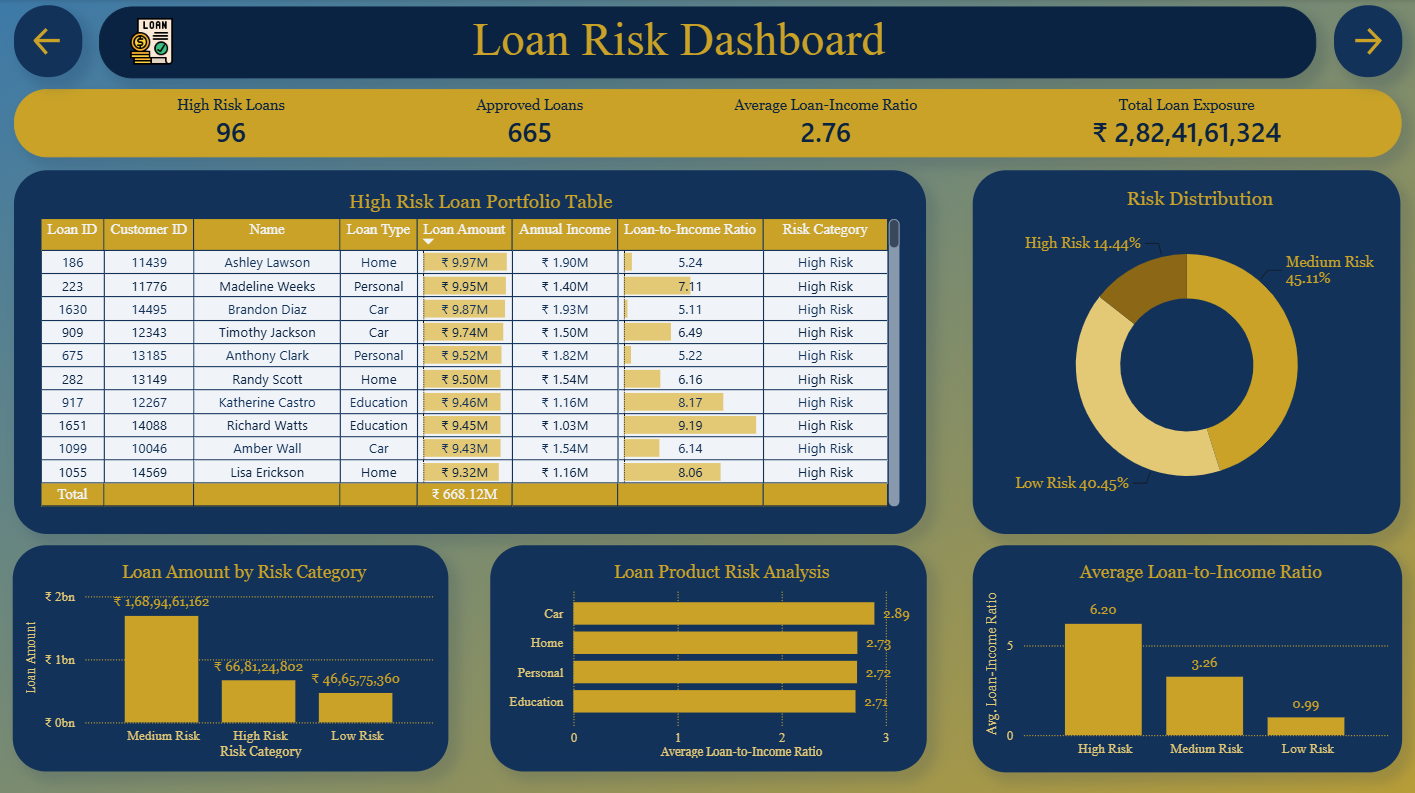

This screenshot's page, from the dashboard's own definition file:
{"tool":"powerbi","page":{"name":"Loan Risk Dashboard","canvas":[1280,720],"ordinal":2},"visuals":[{"type":"shape","box":[90,6.2,1097.5,65],"z":0},{"type":"shape","box":[13.8,81.2,1251.2,61.2],"z":1000},{"type":"cardVisual","fields":{"Data":["Sum(vw_approved_loan_portfolio.Loan_Amount)"]},"box":[965,85,212.5,55],"z":2000},{"type":"cardVisual","fields":{"Data":["CountNonNull(vw_approved_loan_portfolio.Customer_ID)"]},"box":[405,85,148.8,55],"z":3000},{"type":"cardVisual","fields":{"Data":["vw_loan_risk_analysis.High Risk Loans"]},"box":[138.8,85,141.2,55],"z":4000},{"type":"cardVisual","fields":{"Data":["vw_loan_risk_analysis.Average Loan To Income Ratio"]},"box":[642.5,85,206.2,55],"z":5000},{"type":"donutChart","title":"Risk Distribution","fields":{"Category":["vw_loan_risk_analysis.Loan_Risk_Category"],"Y":["CountNonNull(vw_loan_risk_analysis.Customer_ID)"]},"box":[878.4,154.6,385.9,327.8],"z":6000},{"type":"clusteredColumnChart","title":"Loan Amount by Risk Category","fields":{"Category":["vw_loan_risk_analysis.Loan_Risk_Category"],"Y":["Sum(vw_loan_risk_analysis.Loan_Amount)"]},"box":[12.4,492.3,393,204.1],"z":7000},{"type":"clusteredColumnChart","title":"Average Loan-to-Income Ratio","fields":{"Category":["vw_credit_risk_summary.Loan_Risk_Category"],"Y":["Avg(vw_credit_risk_summary.Average_Loan_to_Income_Ratio)"]},"box":[877.5,492.5,387.5,205],"z":8000},{"type":"clusteredBarChart","title":"Loan Product Risk Analysis","fields":{"Category":["vw_loan_product_risk_analysis.Loan_Type"],"Y":["Avg(vw_loan_product_risk_analysis.Average_Loan_to_Income_Ratio)"]},"box":[442.8,492.3,393.4,204.1],"z":9000},{"type":"tableEx","title":"High Risk Loan Portfolio Table","fields":{"Values":["vw_loan_risk_analysis.Loan_ID","vw_loan_risk_analysis.Customer_ID","vw_loan_risk_analysis.Name","vw_loan_risk_analysis.Loan_Type","Sum(vw_loan_risk_analysis.Loan_Amount)","vw_loan_risk_analysis.Annual_Income","vw_loan_risk_analysis.Loan_to_Income_Ratio","vw_loan_risk_analysis.Loan_Risk_Category"]},"box":[13.8,154.6,822.6,327.8],"z":10000},{"type":"textbox","box":[357.5,6.2,511.2,65],"z":11000},{"type":"actionButton","box":[1203.8,6,61.2,65],"z":12000},{"type":"actionButton","box":[13.8,6,61.2,65],"z":13000},{"type":"image","box":[110,16.2,57.5,45],"z":14000}]}

Visuals, with their boxes in screenshot pixels (x1, y1, x2, y2), scaled from the page's 1280x720 canvas onto the 1415x793 screenshot:
shape: x1=99, y1=7, x2=1313, y2=78
shape: x1=15, y1=89, x2=1398, y2=157
cardVisual - Sum(vw_approved_loan_portfolio.Loan_Amount): x1=1067, y1=94, x2=1302, y2=154
cardVisual - CountNonNull(vw_approved_loan_portfolio.Customer_ID): x1=448, y1=94, x2=612, y2=154
cardVisual - vw_loan_risk_analysis.High Risk Loans: x1=153, y1=94, x2=310, y2=154
cardVisual - vw_loan_risk_analysis.Average Loan To Income Ratio: x1=710, y1=94, x2=938, y2=154
"Risk Distribution" donutChart: x1=971, y1=170, x2=1398, y2=531
"Loan Amount by Risk Category" clusteredColumnChart: x1=14, y1=542, x2=448, y2=767
"Average Loan-to-Income Ratio" clusteredColumnChart: x1=970, y1=542, x2=1398, y2=768
"Loan Product Risk Analysis" clusteredBarChart: x1=490, y1=542, x2=924, y2=767
"High Risk Loan Portfolio Table" tableEx: x1=15, y1=170, x2=925, y2=531
textbox: x1=395, y1=7, x2=960, y2=78
actionButton: x1=1331, y1=7, x2=1398, y2=78
actionButton: x1=15, y1=7, x2=83, y2=78
image: x1=122, y1=18, x2=185, y2=67
